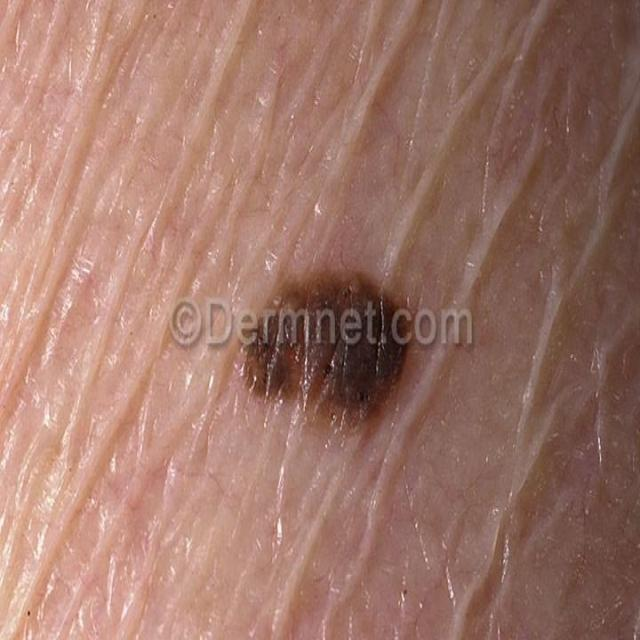Eczema: (48, 9, 611, 625)
